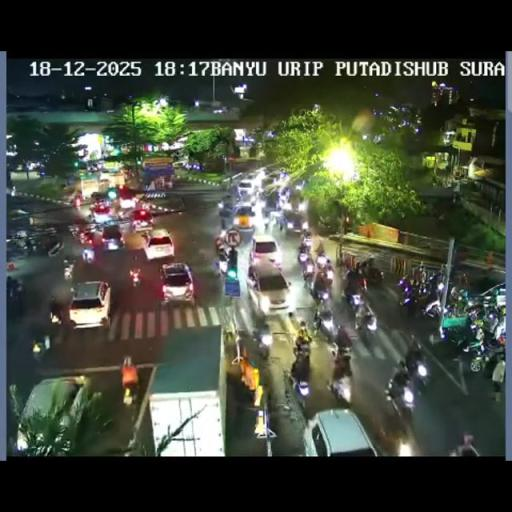Car: (16, 374, 90, 454), (303, 408, 380, 455), (248, 258, 290, 313), (67, 280, 111, 328), (159, 262, 195, 306), (466, 280, 504, 316), (144, 229, 174, 260), (101, 224, 124, 251), (233, 204, 256, 230), (130, 208, 154, 230), (90, 202, 113, 224), (236, 178, 258, 199), (263, 169, 286, 187), (118, 190, 138, 210), (90, 190, 108, 204), (171, 159, 190, 169)
Motorcycle: (300, 232, 374, 399), (385, 364, 426, 425), (462, 327, 504, 373), (428, 322, 466, 362), (404, 279, 437, 317), (328, 357, 353, 404), (289, 348, 311, 399), (442, 292, 470, 320), (355, 308, 378, 342), (314, 308, 336, 342), (343, 274, 364, 308), (252, 324, 272, 358), (358, 261, 384, 287), (405, 337, 424, 372), (122, 369, 139, 405), (6, 279, 23, 314), (36, 234, 63, 256), (338, 322, 359, 350), (315, 254, 333, 282), (69, 224, 91, 246), (6, 238, 27, 261), (298, 252, 314, 282), (454, 269, 470, 296), (316, 216, 337, 234), (428, 272, 445, 294), (492, 316, 505, 341), (62, 257, 76, 280), (414, 263, 428, 286), (315, 281, 330, 302), (218, 194, 234, 213), (32, 341, 46, 362), (24, 236, 39, 255), (214, 235, 226, 258), (130, 267, 142, 288), (253, 196, 266, 215), (300, 234, 313, 250), (82, 247, 94, 264), (246, 272, 257, 290), (314, 237, 324, 256), (218, 256, 228, 274), (50, 307, 60, 324), (278, 214, 288, 230), (278, 194, 288, 210), (298, 199, 308, 214), (73, 195, 82, 210), (220, 214, 227, 232), (264, 212, 270, 230), (302, 220, 308, 233)
